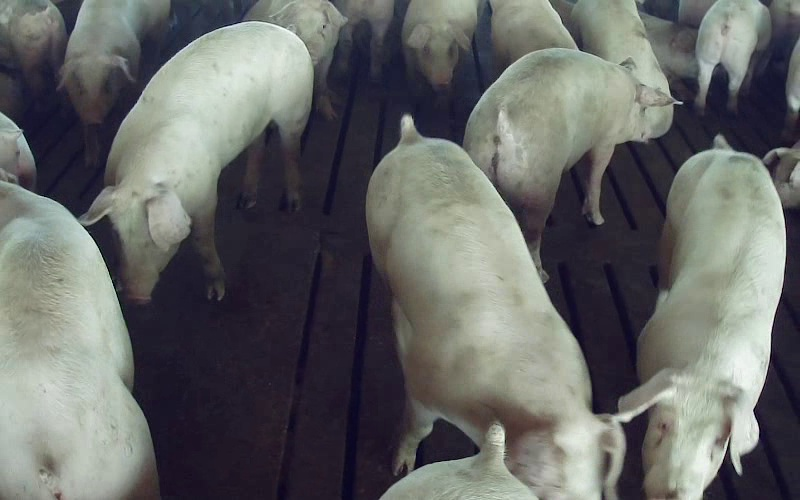pig: (366, 116, 624, 497), (80, 22, 312, 302), (619, 138, 784, 499), (463, 48, 675, 280), (243, 0, 346, 119), (571, 0, 668, 93), (402, 0, 479, 91), (490, 0, 577, 72)
